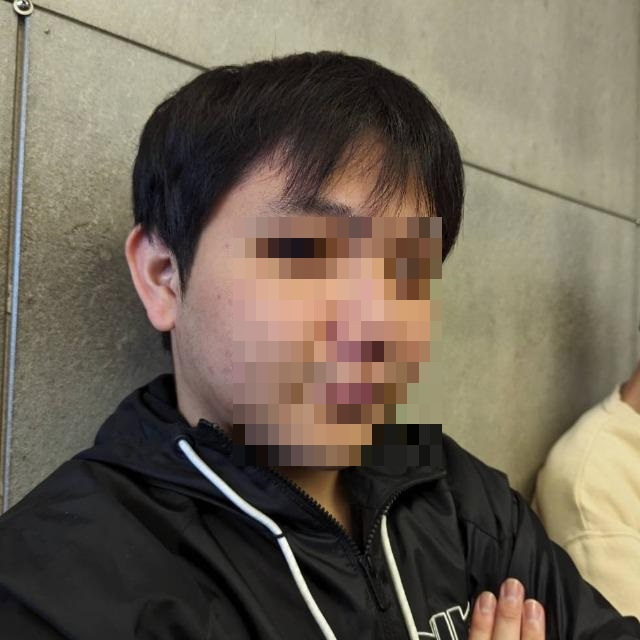NoHelmet: (113, 52, 466, 474)
